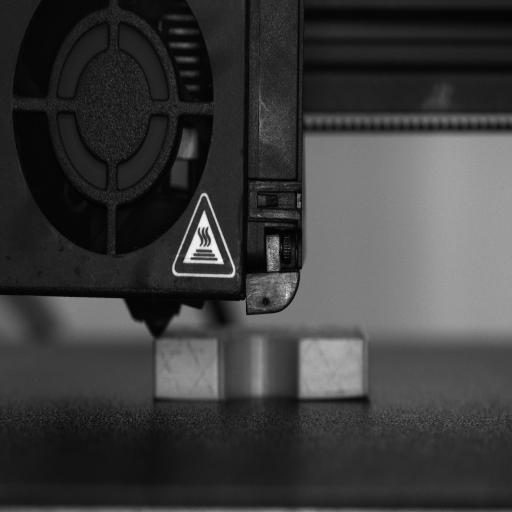warp: (334, 385, 376, 407)
